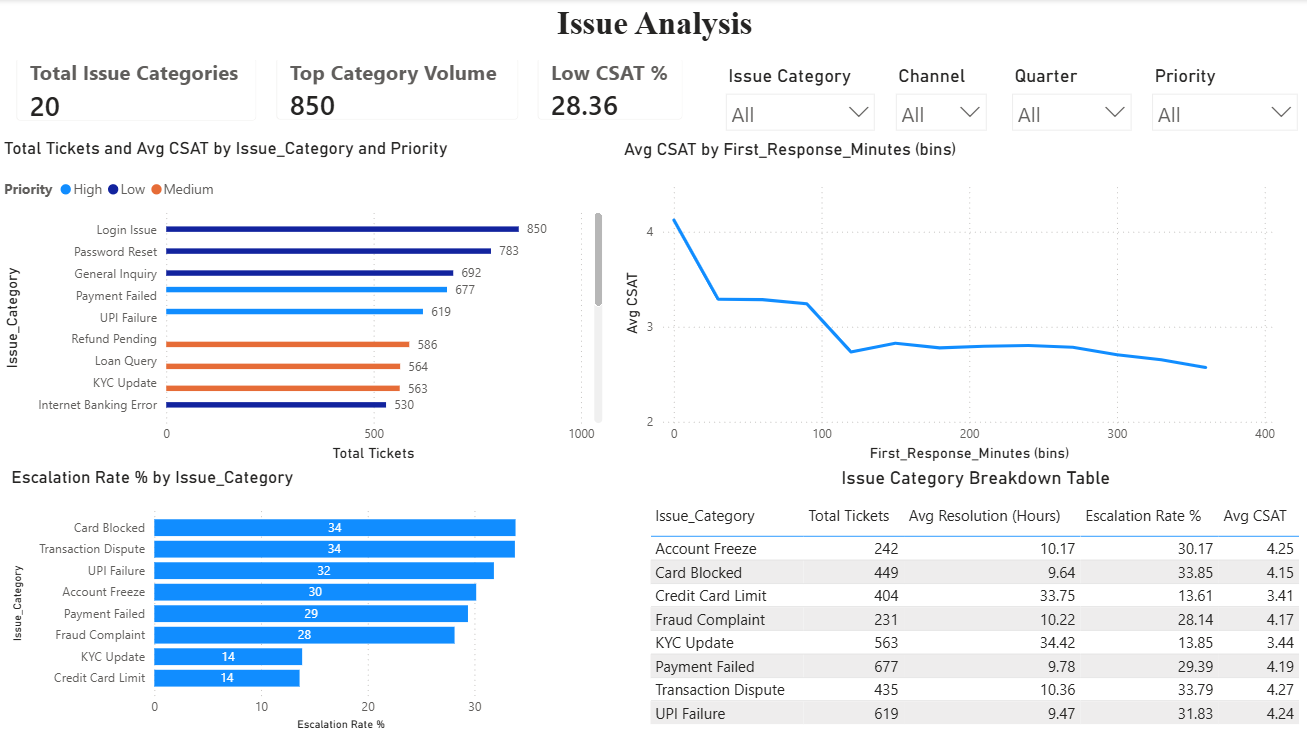

This screenshot's page, from the dashboard's own definition file:
{"tool":"powerbi","page":{"name":"Issue Analysis","canvas":[1280,720],"ordinal":2},"visuals":[{"type":"clusteredBarChart","fields":{"Category":["customer_support_tickets.Issue_Category"],"Y":["_Measures.Total Tickets"],"Series":["customer_support_tickets.Priority"]},"box":[0,135.7,595.5,321.6],"z":0},{"type":"clusteredBarChart","fields":{"Category":["customer_support_tickets.Issue_Category"],"Y":["_Measures.Escalation Rate %"]},"box":[7.3,457.3,522.1,262.9],"z":1000},{"type":"lineChart","fields":{"Category":["customer_support_tickets.First_Response_Minutes (bins)"],"Y":["_Measures.Avg CSAT"]},"box":[606.5,137,646.9,320.4],"z":2000},{"type":"tableEx","title":"\tIssue Category Breakdown Table","fields":{"Values":["customer_support_tickets.Issue_Category","_Measures.Total Tickets","_Measures.Avg Resolution (Hours)","_Measures.Escalation Rate %","_Measures.Avg CSAT"]},"box":[631,457.3,649.3,262.9],"z":3000},{"type":"actionButton","box":[0,0,100,40],"z":4000},{"type":"cardVisual","fields":{"Data":["_Measures.Total Issue Categories"]},"box":[0,40.4,269,96.6],"z":5000},{"type":"cardVisual","fields":{"Data":["_Measures.Top Category Volume"]},"box":[254.3,40.4,271.5,95.4],"z":6000},{"type":"cardVisual","fields":{"Data":["_Measures.Low CSAT %"]},"box":[509.9,40.4,176.1,95.4],"z":7000},{"type":"textbox","box":[2.4,0,1277.9,59.9],"z":8000},{"type":"slicer","fields":{"Values":["customer_support_tickets.Issue_Category"]},"box":[700.7,59.9,166.3,75.8],"z":9000},{"type":"slicer","fields":{"Values":["customer_support_tickets.Channel"]},"box":[867,59.9,108.8,77],"z":10000},{"type":"slicer","fields":{"Values":["customer_support_tickets.Ticket_Date.Variation.Date Hierarchy.Quarter"]},"box":[980.7,59.9,137,77],"z":11000},{"type":"slicer","fields":{"Values":["customer_support_tickets.Priority"]},"box":[1117.7,59.9,162.6,75.8],"z":12000}]}

Visuals, with their boxes in screenshot pixels (x1, y1, x2, y2), scaled from the page's 1280x720 canvas onto the 1307x733 screenshot:
clusteredBarChart - customer_support_tickets.Issue_Category x _Measures.Total Tickets: 0 138 608 466
clusteredBarChart - customer_support_tickets.Issue_Category x _Measures.Escalation Rate %: 7 466 541 732
lineChart - customer_support_tickets.First_Response_Minutes (bins) x _Measures.Avg CSAT: 619 139 1280 466
"	Issue Category Breakdown Table" tableEx: 644 466 1306 732
actionButton: 0 0 102 41
cardVisual - _Measures.Total Issue Categories: 0 41 275 139
cardVisual - _Measures.Top Category Volume: 260 41 537 138
cardVisual - _Measures.Low CSAT %: 521 41 700 138
textbox: 2 0 1306 61
slicer - customer_support_tickets.Issue_Category: 715 61 885 138
slicer - customer_support_tickets.Channel: 885 61 996 139
slicer - customer_support_tickets.Ticket_Date.Variation.Date Hierarchy.Quarter: 1001 61 1141 139
slicer - customer_support_tickets.Priority: 1141 61 1306 138
